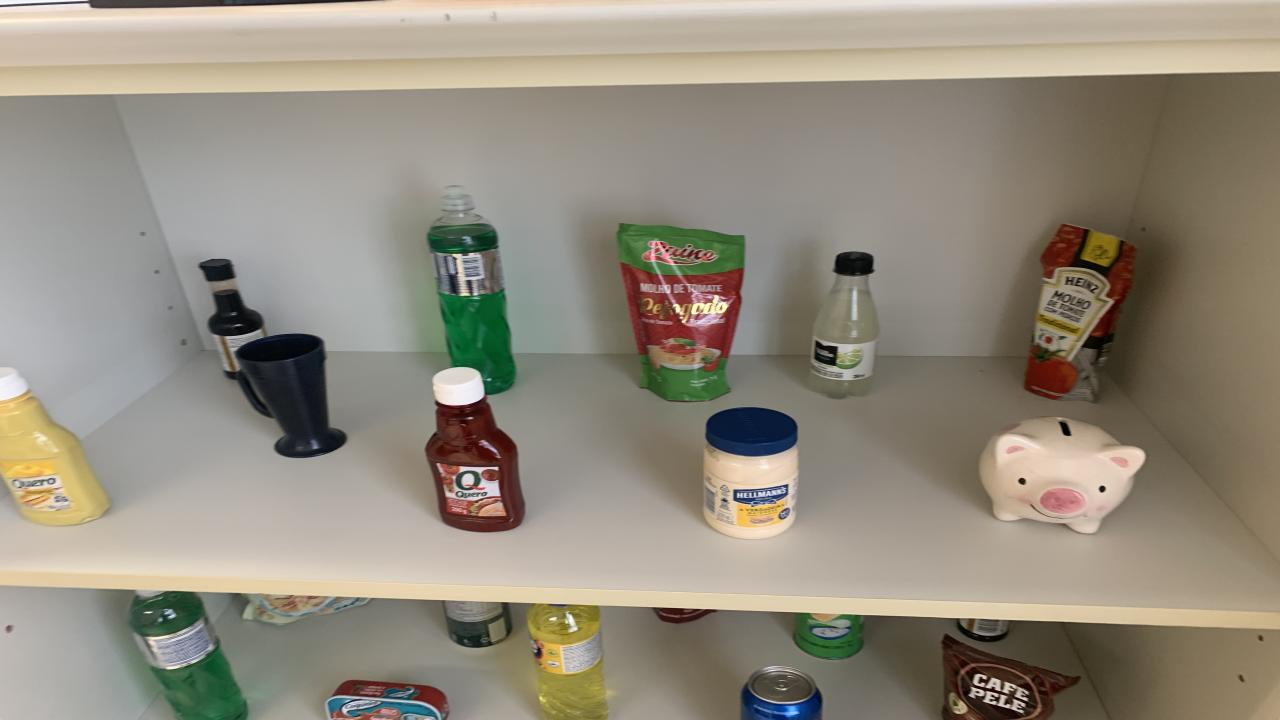Coffee-Pantry_Items: (942, 634, 1080, 720)
Detergent-Cleanup_Items: (428, 186, 515, 394), (128, 591, 248, 718), (528, 604, 608, 718)
English_Sauce-Pantry_Items: (200, 259, 268, 379), (958, 619, 1010, 643)
Flakes-Snacks: (242, 594, 370, 624)
Guarana_Can-Drinks: (442, 600, 512, 647)
Ketchup-Pantry_Items: (425, 368, 525, 532)
Mayonnaise-Pantry_Items: (702, 407, 798, 538)
Mustard-Pantry_Items: (0, 368, 110, 525)
Pig_Safe-Miscellaneous: (980, 416, 1145, 532)
Pringles-Snacks: (795, 613, 862, 658)
Soda-Drinks: (808, 251, 880, 398)
Tomato_Sauce-Pantry_Items: (618, 223, 745, 401), (1025, 225, 1138, 401), (652, 608, 715, 624)
Tonic-Drinks: (740, 666, 822, 720)
Tuna_Can-Pantry_Items: (325, 681, 450, 720)
